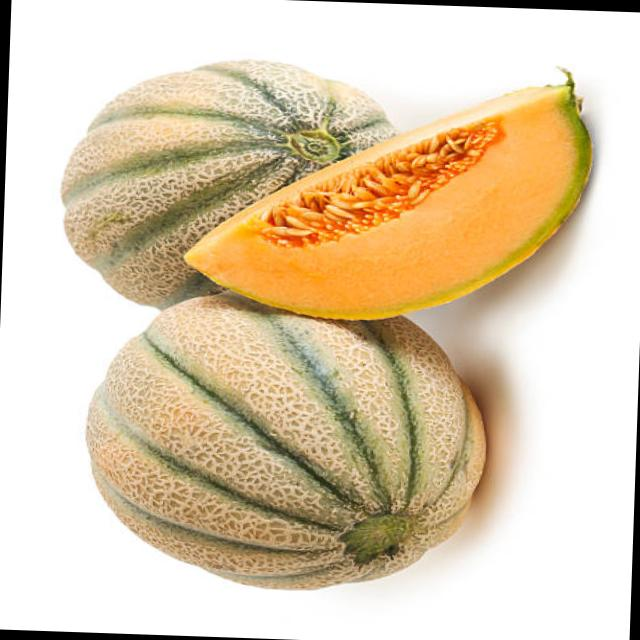cantaloupe: (82, 287, 494, 597), (180, 69, 596, 327), (54, 54, 400, 314)
